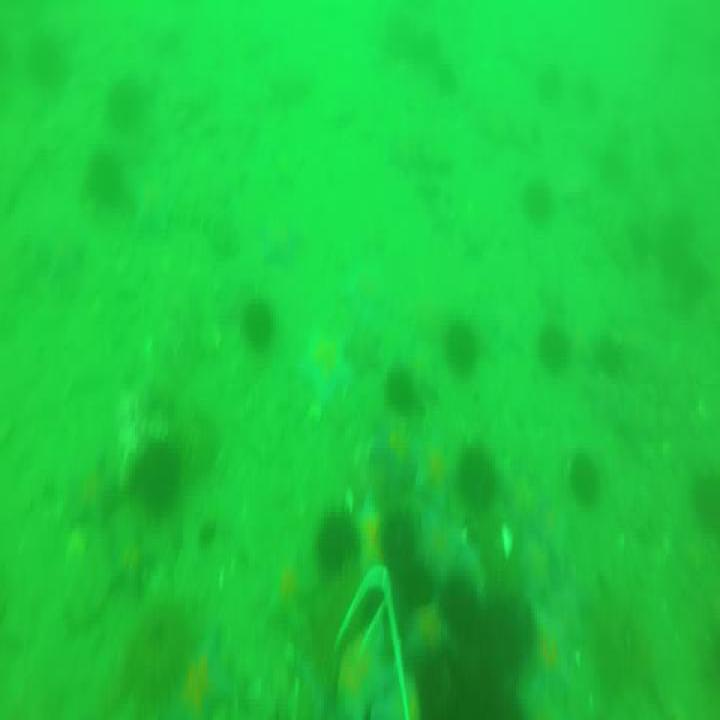echinus: (415, 650, 480, 720), (483, 594, 531, 681), (436, 582, 482, 660), (135, 448, 179, 514), (476, 663, 524, 715), (87, 150, 127, 212), (318, 512, 359, 572), (521, 170, 557, 234), (441, 318, 476, 377), (688, 473, 720, 530), (460, 444, 498, 492), (385, 519, 420, 571), (108, 80, 148, 124), (569, 444, 597, 505), (536, 324, 570, 372), (242, 306, 275, 350), (384, 364, 413, 410), (597, 329, 625, 375)
scallop: (502, 522, 515, 562)
starfish: (539, 569, 589, 668), (344, 252, 404, 332), (302, 327, 357, 405), (187, 627, 231, 720), (414, 411, 456, 496), (525, 496, 572, 569), (369, 418, 419, 483), (421, 485, 452, 564), (443, 528, 478, 597), (259, 217, 305, 268)
